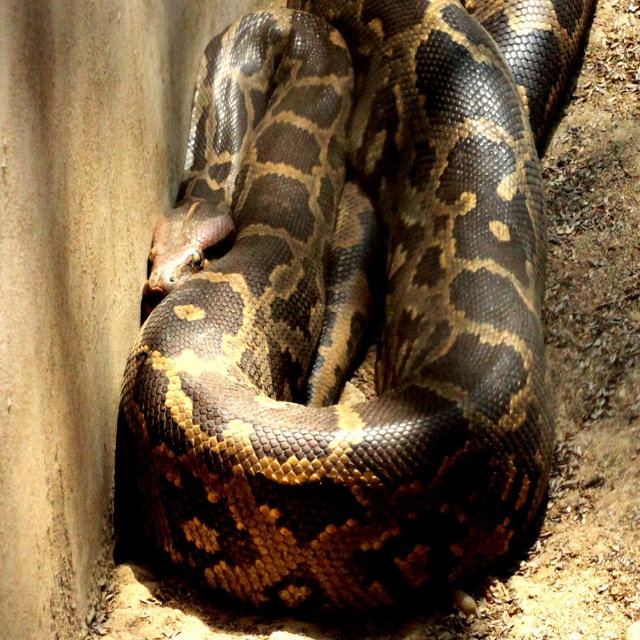Snake: (114, 0, 598, 626)
